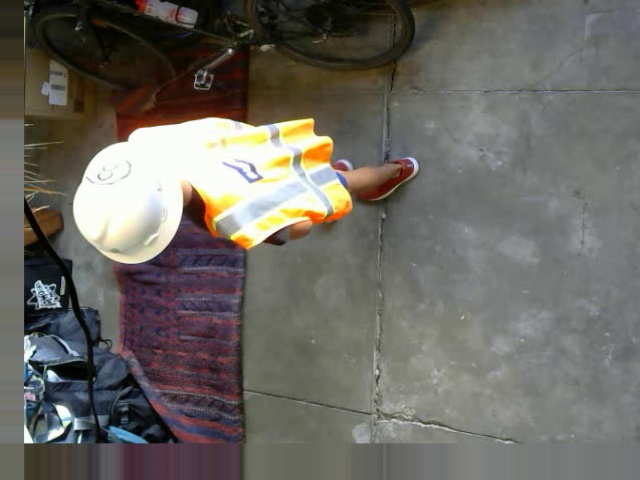eight: (85, 153, 130, 184)
